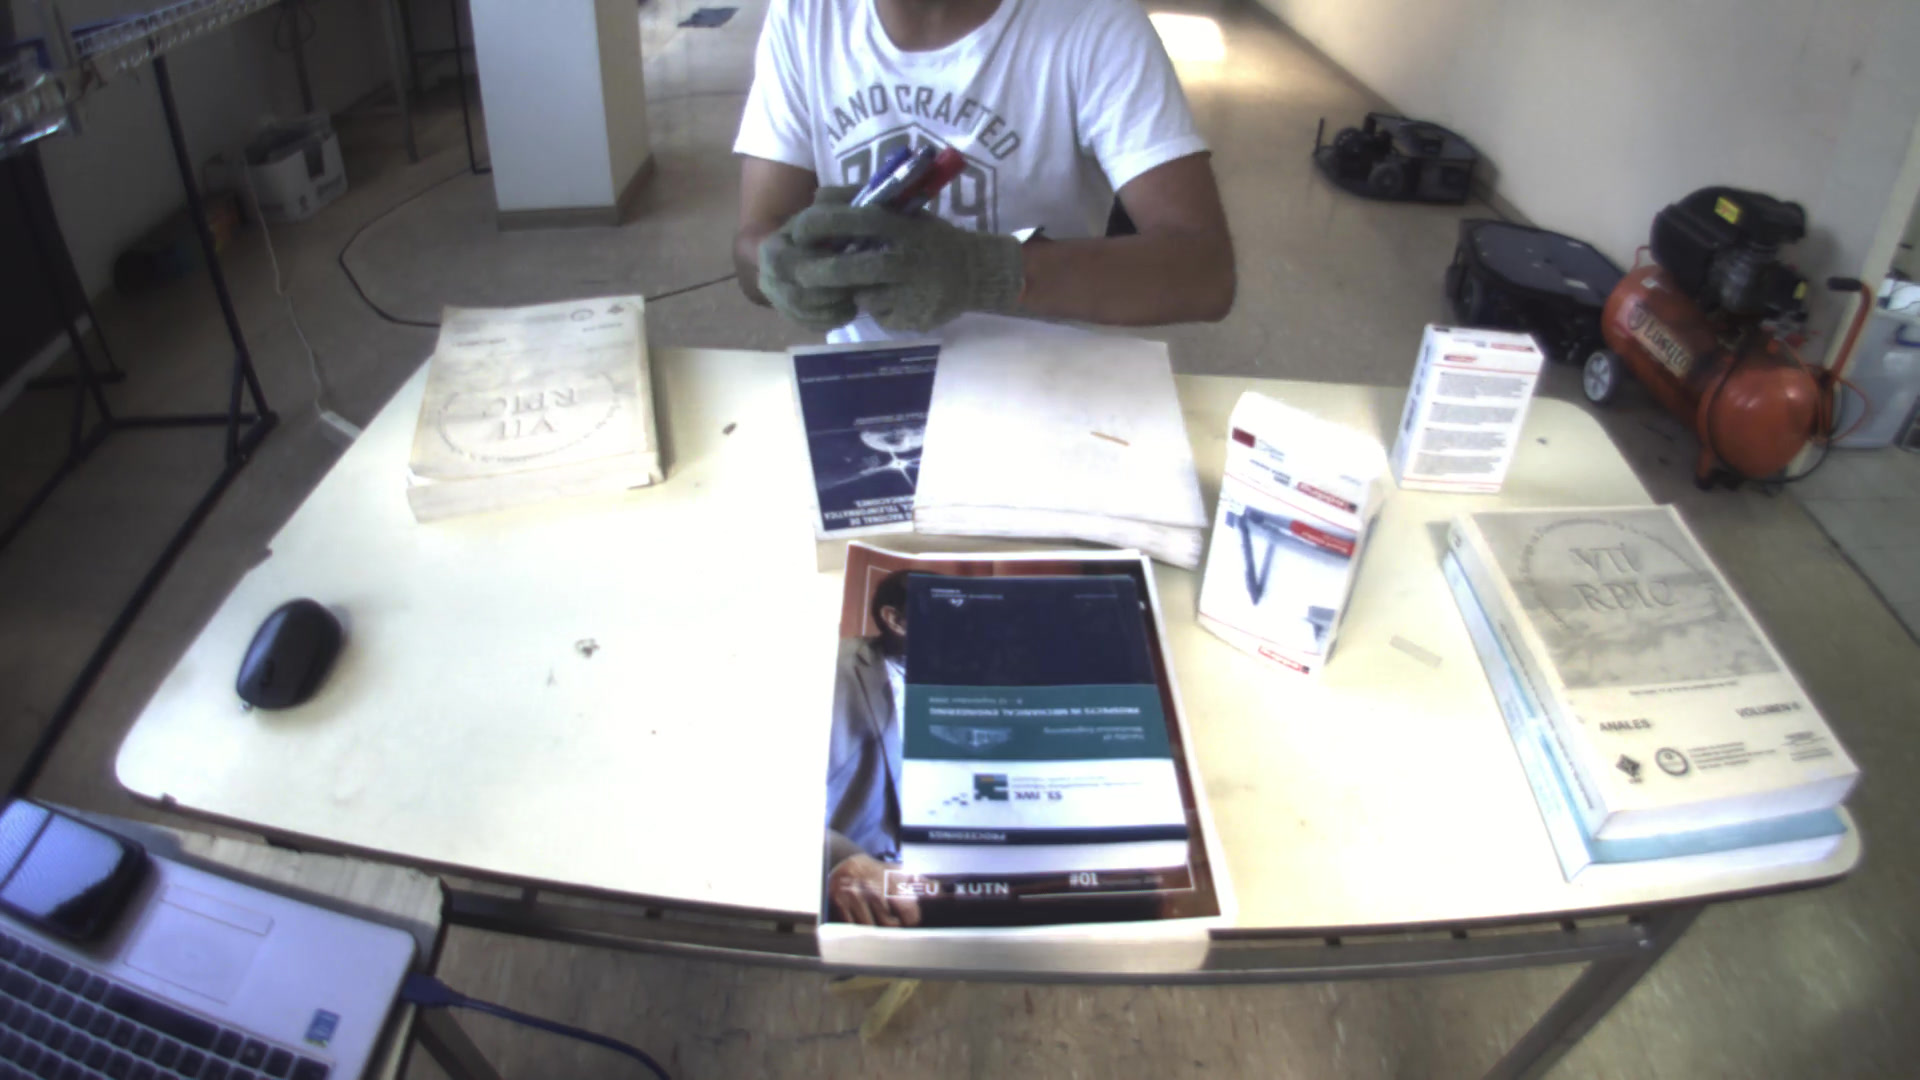hand: (811, 198, 1015, 324), (757, 208, 833, 343)
